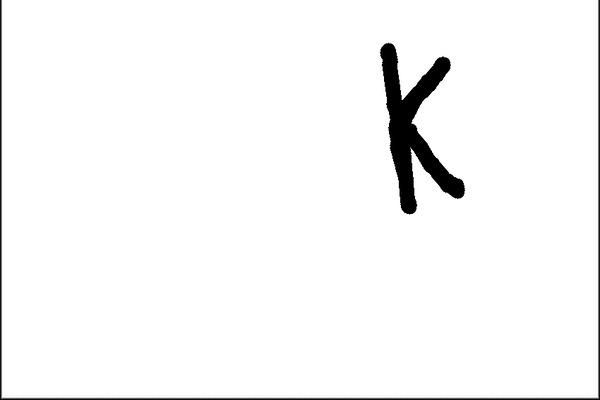K: (371, 36, 474, 219)
